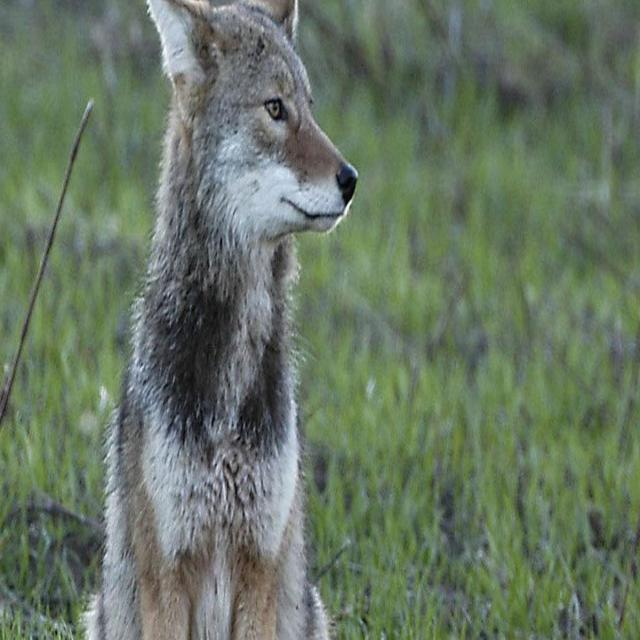Coyote: (86, 0, 364, 640)
